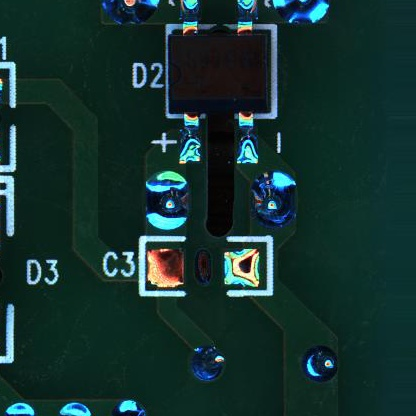spot: (145, 170, 190, 232), (252, 169, 299, 227), (187, 343, 227, 382), (303, 345, 340, 383)
